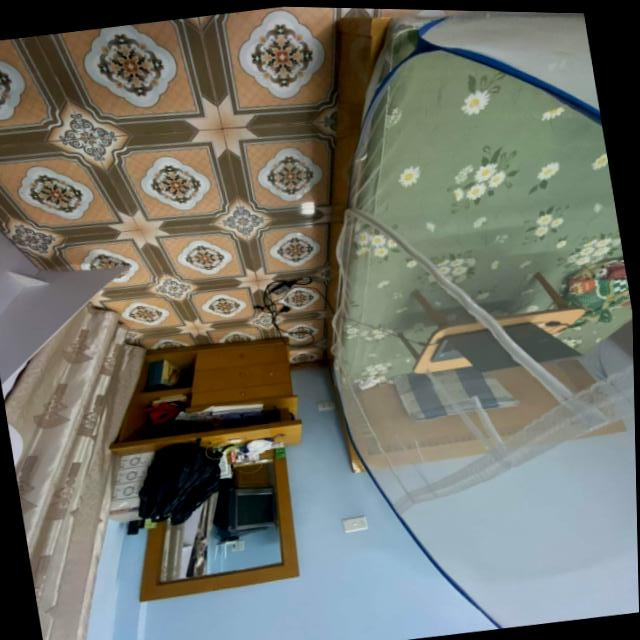outlet: (316, 400, 335, 413)
